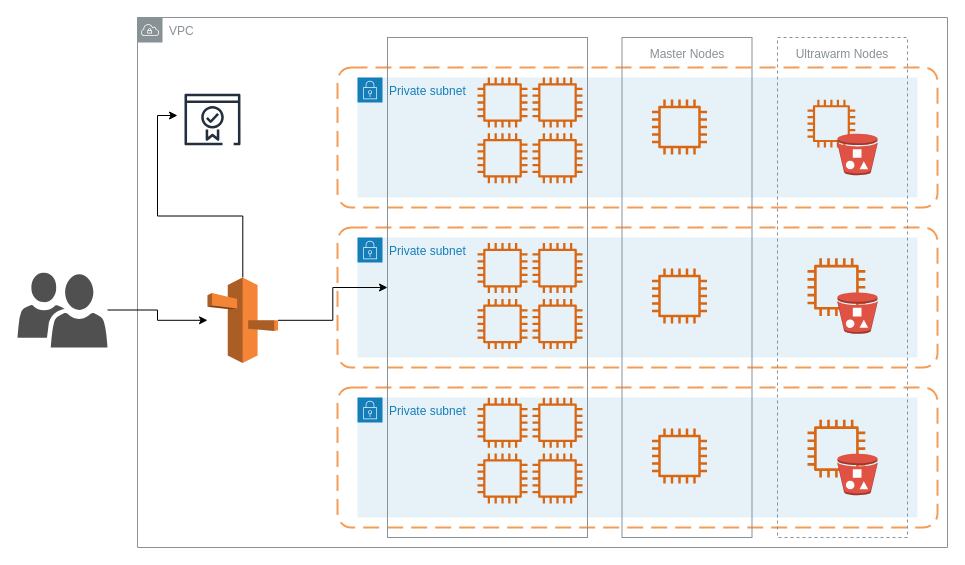
The diagram is 965 pixels wide and 565 high, and some of its shapes have lost their labels. Each missing label, with the box of its shape:
Custom Endpoint Certificate: (176, 84, 248, 154)
Data Nodes: (386, 36, 588, 538)
VPC Endpoint: (206, 276, 278, 363)
